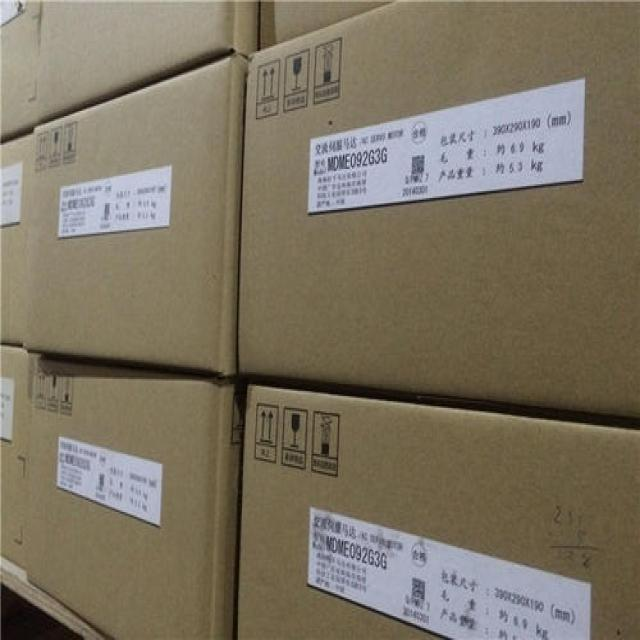box: (238, 0, 640, 420), (236, 386, 640, 640), (23, 53, 244, 377), (27, 357, 247, 640), (33, 0, 261, 123)
